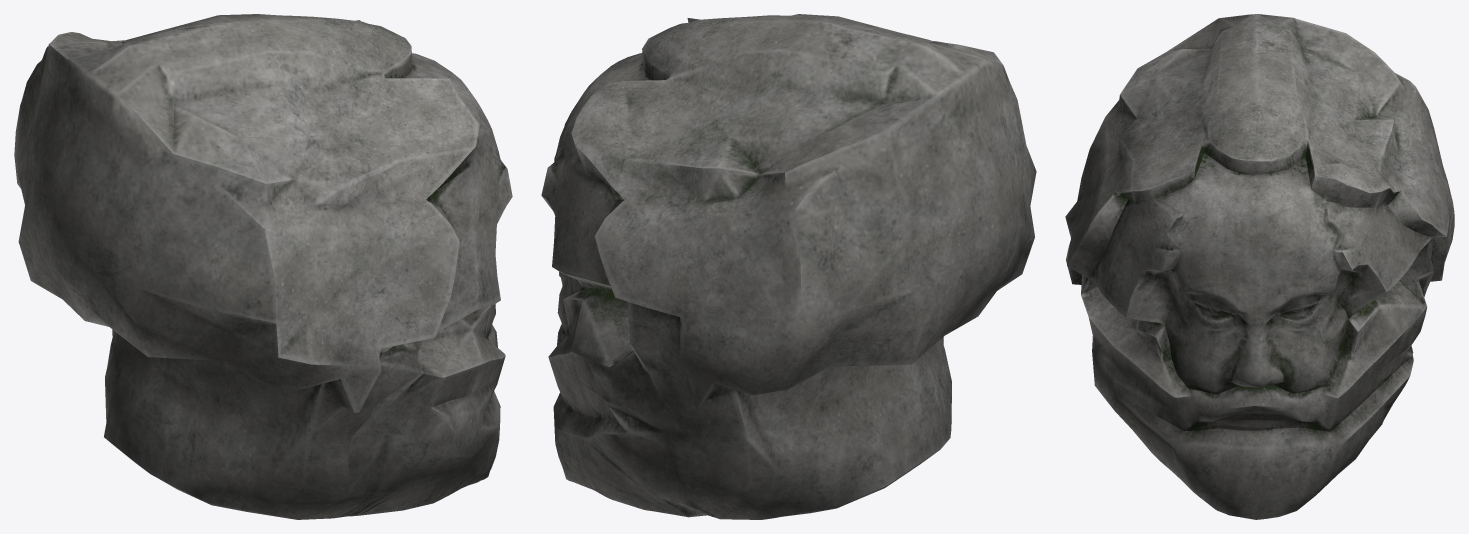
Rendered from marx_head.glb.
3 views of the same model, side by side, from view 1: azimuth 30°, elevation 25°; view 2: azimuth 150°, elevation 25°; view 3: azimuth 270°, elevation 25° (orthographic). The views are drawn at different scales.
Parts seen in each view (by area): view 1: Marx_Head; view 2: Marx_Head; view 3: Marx_Head.
Boxes of the visible parts, x1,y1,x2,y2 form: Marx_Head: (14, 14, 512, 519); Marx_Head: (541, 14, 1036, 519); Marx_Head: (1065, 14, 1454, 519).
Bounding box in the file's own units: 1073 × 1163 × 1081.
Materials: 1 (1 with a texture image).
